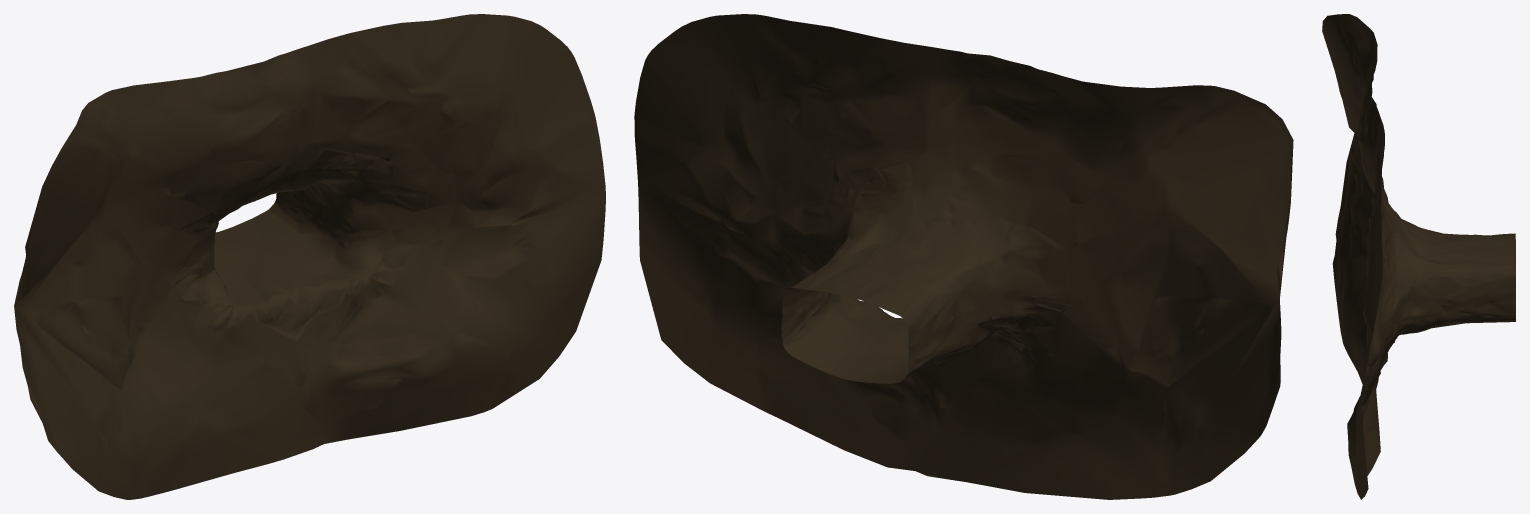
Rendered from CaveCliffFaceRealisticModel.fbx.
3 renders of one model, left to right at view 1: azimuth 30°, elevation 25°; view 2: azimuth 150°, elevation 25°; view 3: azimuth 270°, elevation 25°, orthographic. The views are drawn at different scales.
Parts seen in each view (by area): view 1: CliffFace_LOD2_6; view 2: CliffFace_LOD2_6; view 3: CliffFace_LOD2_6.
Boxes of the visible parts, <box> form: CliffFace_LOD2_6: <box>14,14,605,499</box>; CliffFace_LOD2_6: <box>634,14,1293,499</box>; CliffFace_LOD2_6: <box>1322,14,1515,499</box>.
Bounding box in the file's own units: 176 × 117 × 62.38.
